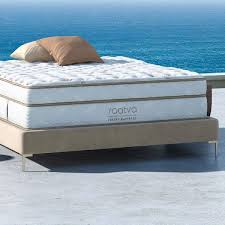bed-matress: (1, 55, 209, 131)
